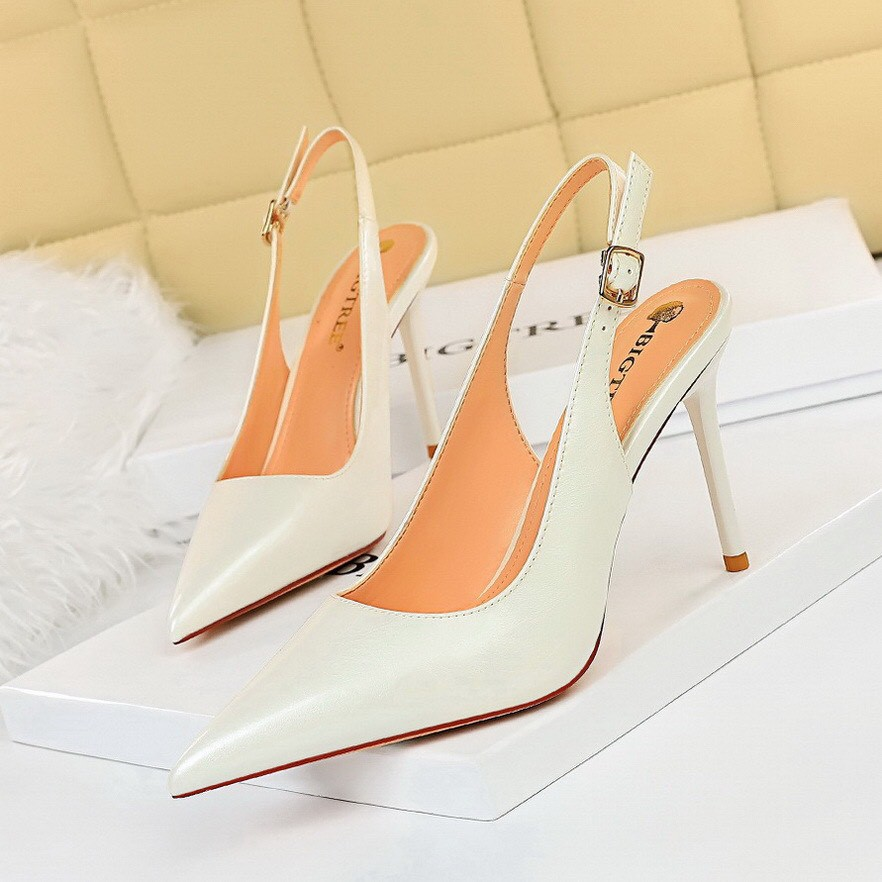high heels: (165, 151, 750, 798), (161, 116, 442, 648)
